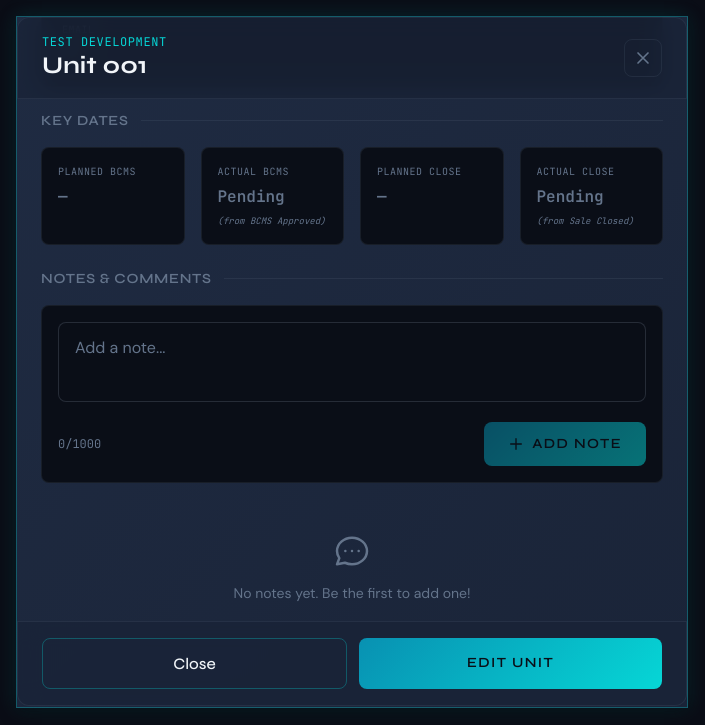
it: UnitDetailModal › add note functionality › shows error when add note fails
This screenshot has width=705, height=725.
(page scrolled)
In the text box with placeholder "Add a note...": (352, 362) [58,322,646,402], type "Test note"
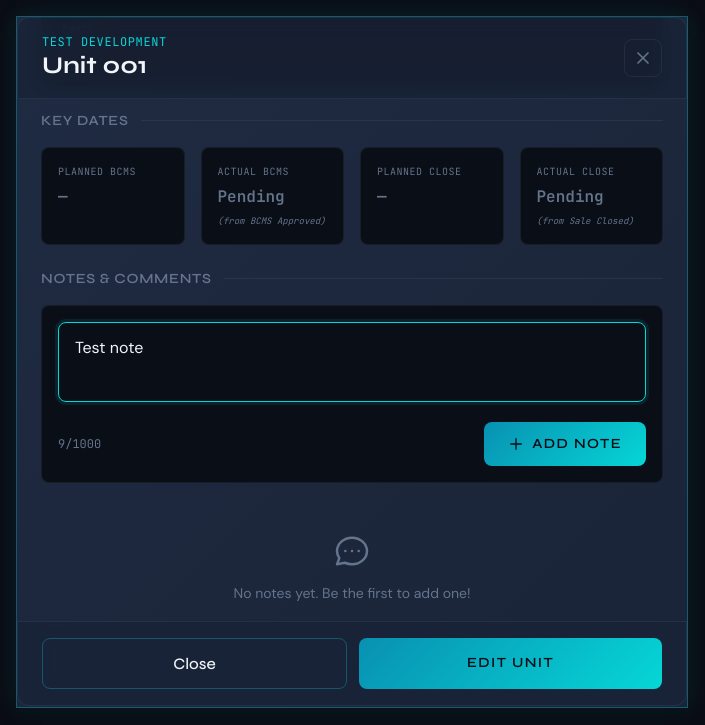
Click the button "Add Note": (565, 444) [484,422,646,466]
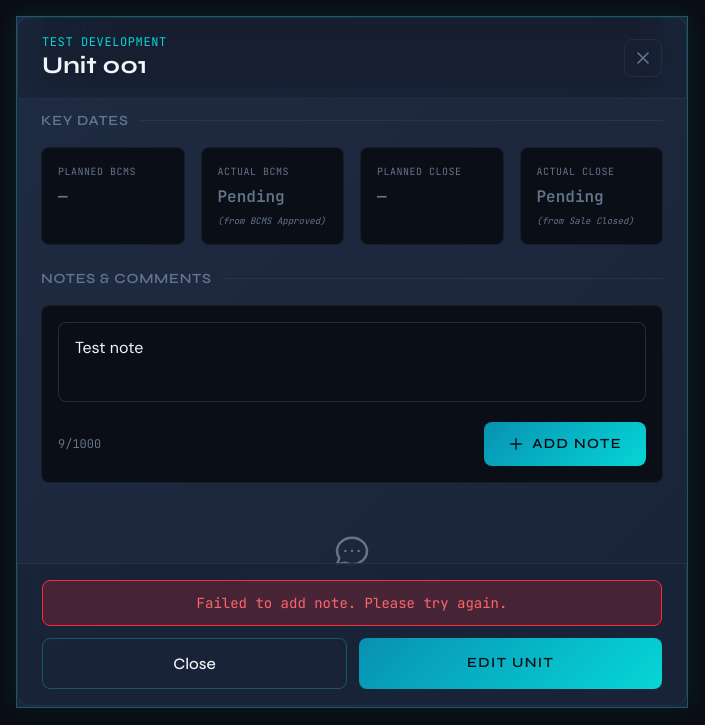
Expected: the text "Failed to add note. Please try again." is shown, [197,594,507,612]
